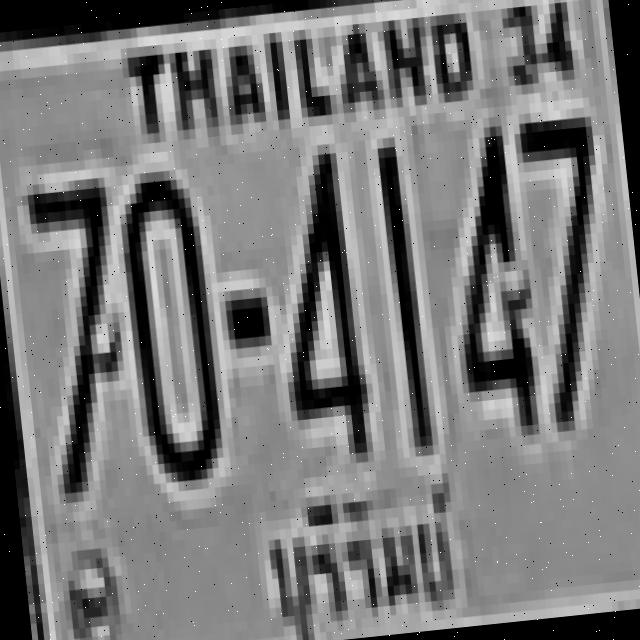Buriram: (242, 451, 481, 640)
